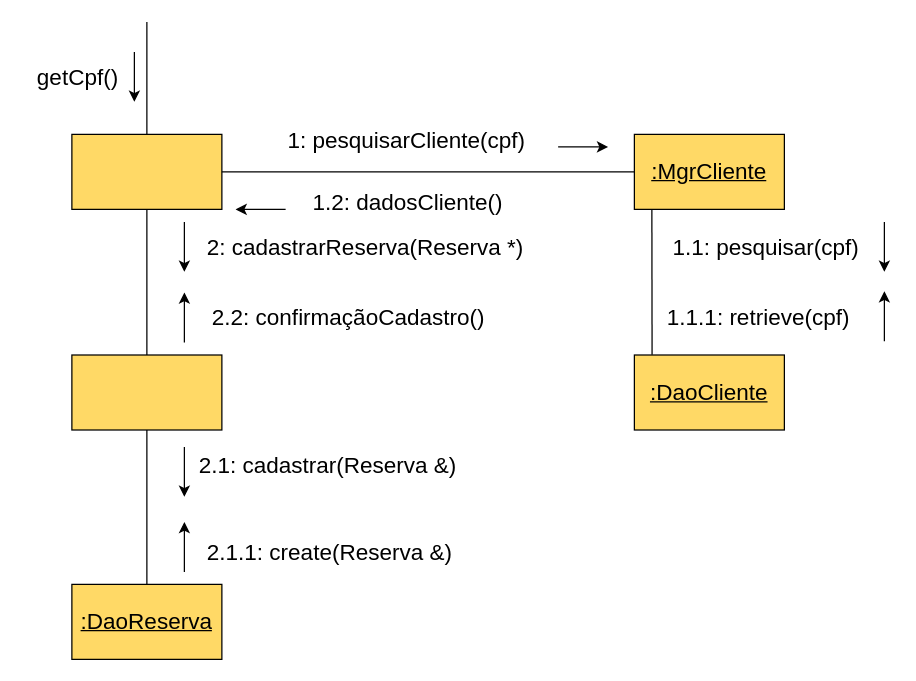
Some shapes in this 916 by 681 pixel diagram are drawn without their labels. Here are the shapes that lost their labels. From the top down, the centre of each, then its label:
point 146,171: :Sistema
point 146,392: :MgrReserva
